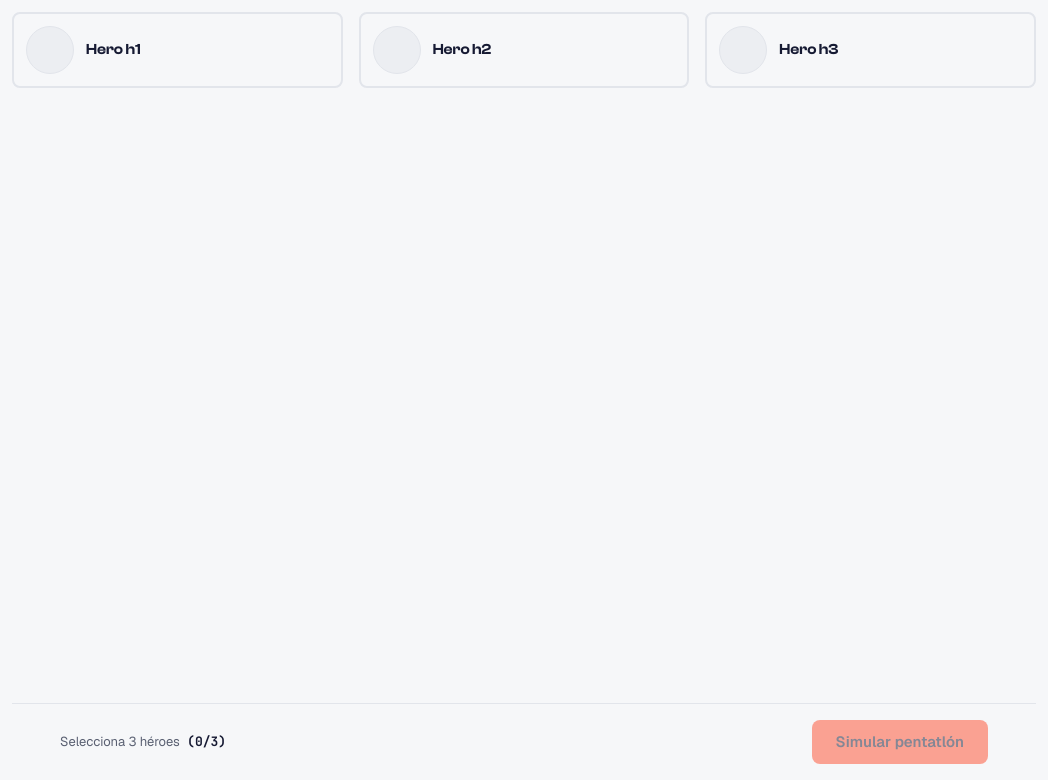
HeroSelector › CTA is enabled when 3 heroes selected
This screenshot has width=1048, height=780.
Click the list item "Hero h1" at (50, 50), box [12,12,343,88]
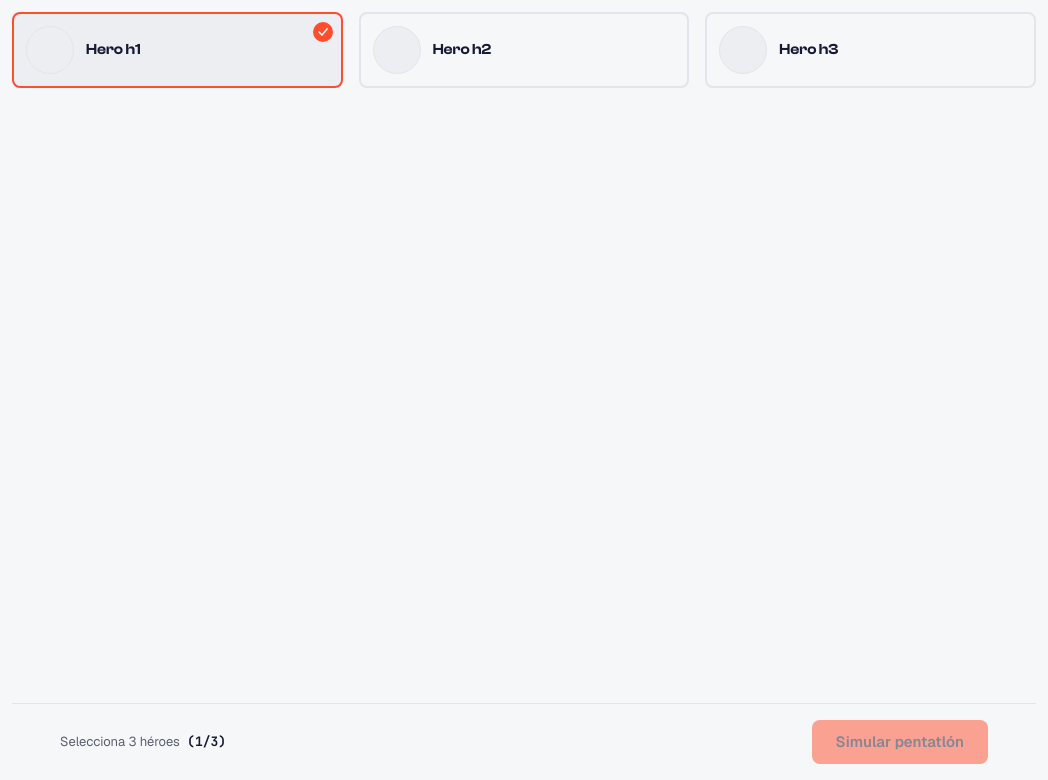
Click the list item "Hero h2" at (397, 50), box [359,12,689,88]
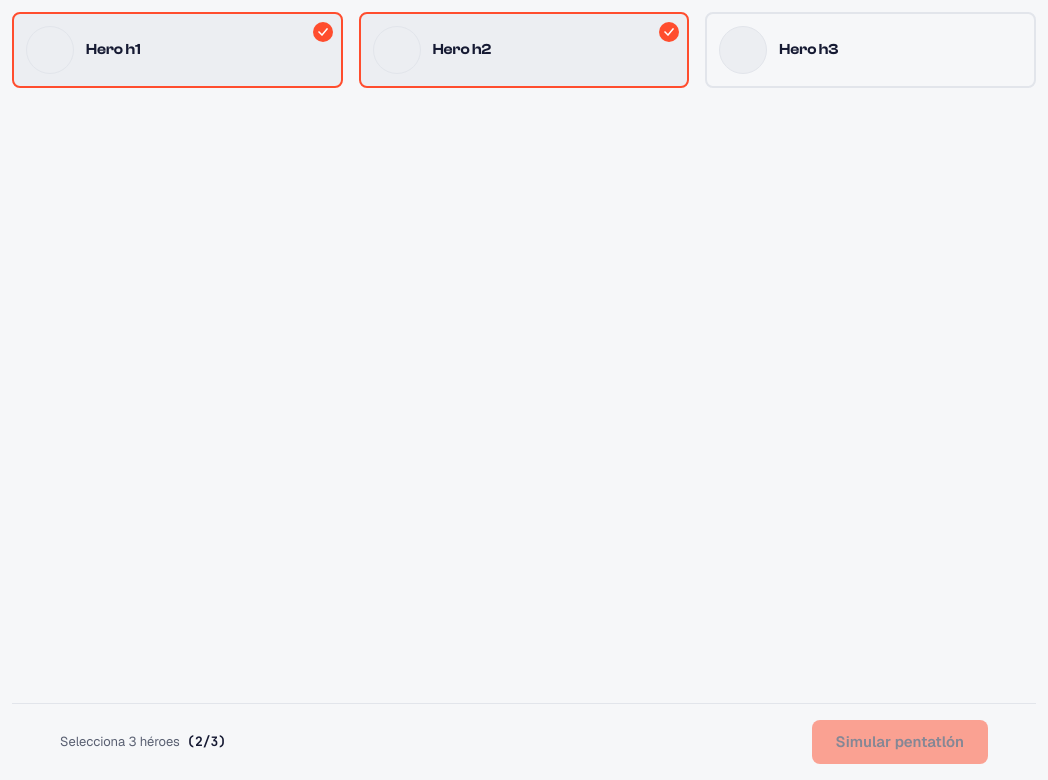
Click the list item "Hero h3" at (743, 50), box [705,12,1036,88]
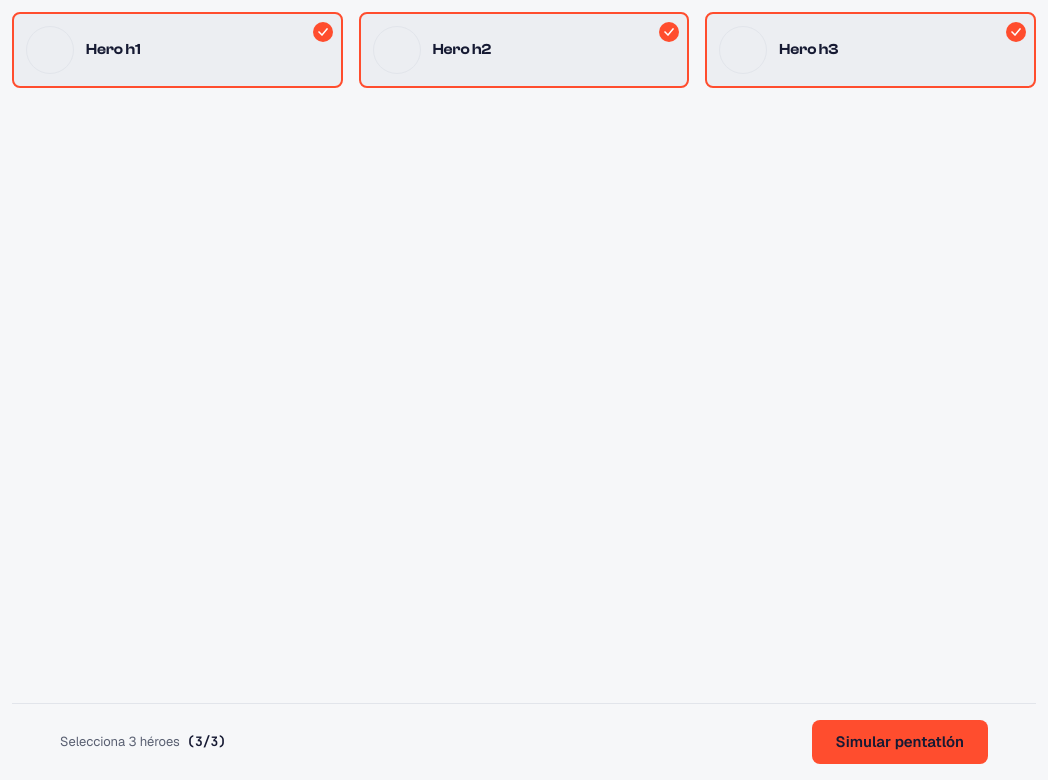
Check: the button "Simular pentatlón" is enabled, box [812,720,988,764]
